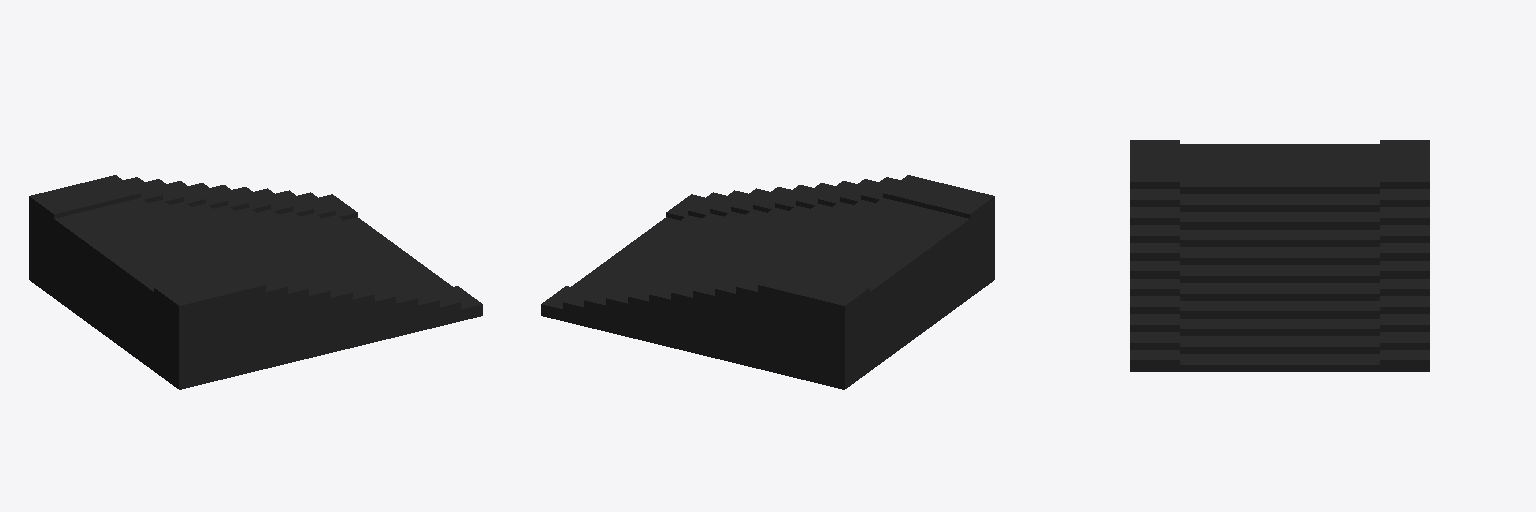
The model's file is stairs.obj.
The picture shows the model from 3 angles: view 1: azimuth 30°, elevation 25°; view 2: azimuth 150°, elevation 25°; view 3: azimuth 270°, elevation 25°; orthographic projection.
Parts seen in each view (by area): view 1: Cube.009; view 2: Cube.009; view 3: Cube.009.
Part boxes in pixels (x1,y1,x2,y2): Cube.009: (29, 175, 482, 389); Cube.009: (541, 175, 994, 389); Cube.009: (1130, 140, 1429, 371).
Size of the model in its own units: 14 by 3.7 by 12.